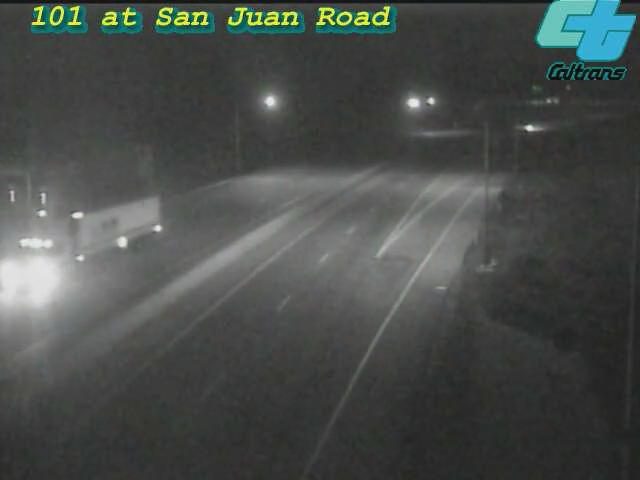vehicle: (56, 195, 136, 275), (506, 104, 556, 154)
